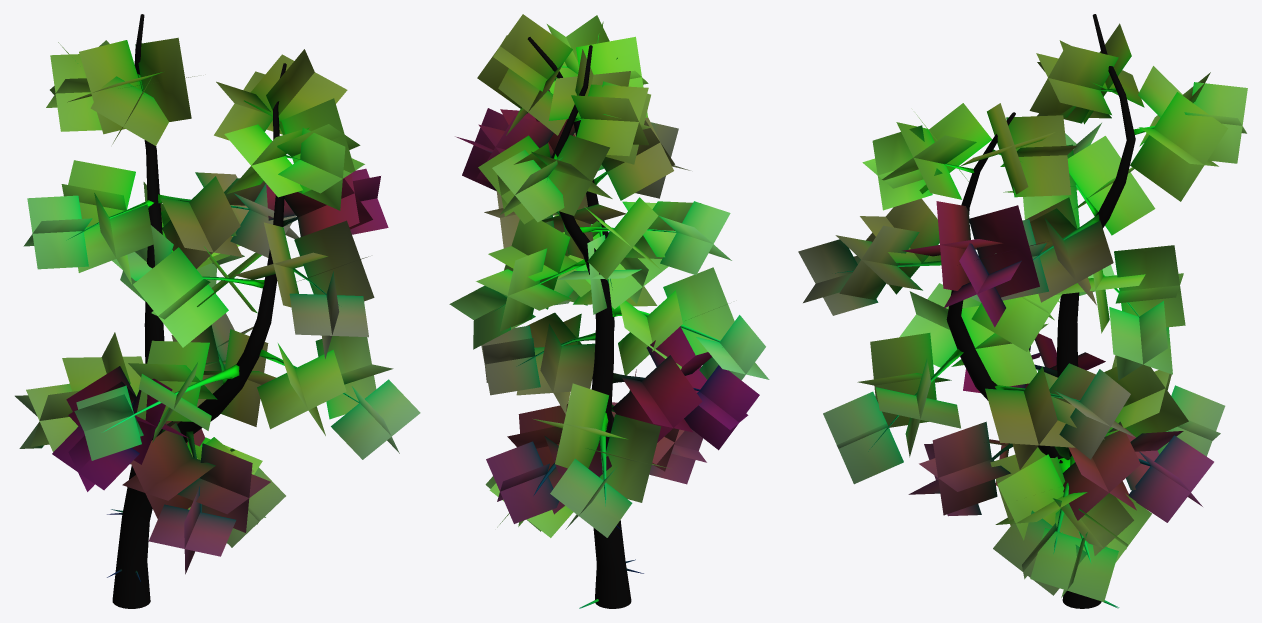
Rendered from URP_P7_Tree_13_LOD_1.fbx.
3 views of the same model, side by side, from view 1: azimuth 30°, elevation 25°; view 2: azimuth 150°, elevation 25°; view 3: azimuth 270°, elevation 25° (orthographic). The views are drawn at different scales.
Parts seen in each view (by area): view 1: Tree_13_LOD_1; view 2: Tree_13_LOD_1; view 3: Tree_13_LOD_1.
Part boxes in pixels (x1=…): Tree_13_LOD_1: x1=15, y1=14, x2=420, y2=608; Tree_13_LOD_1: x1=449, y1=14, x2=769, y2=608; Tree_13_LOD_1: x1=798, y1=14, x2=1247, y2=608.
Bounding box in the file's own units: 279 × 499 × 342.
